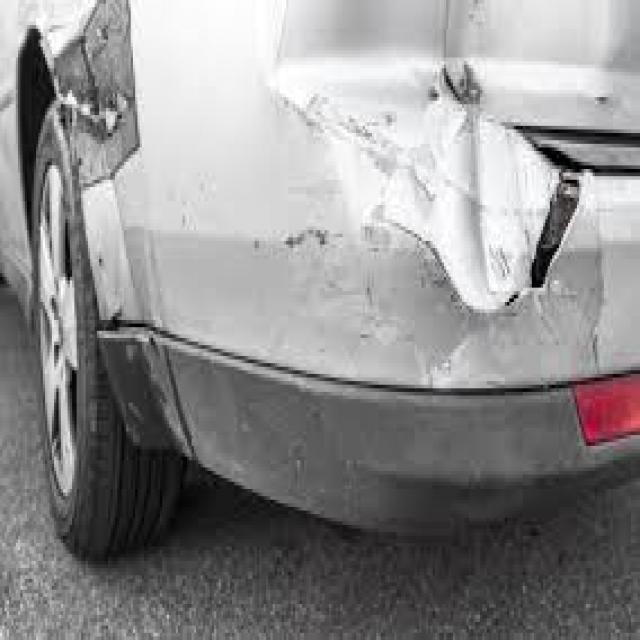minor: (277, 44, 590, 318)
